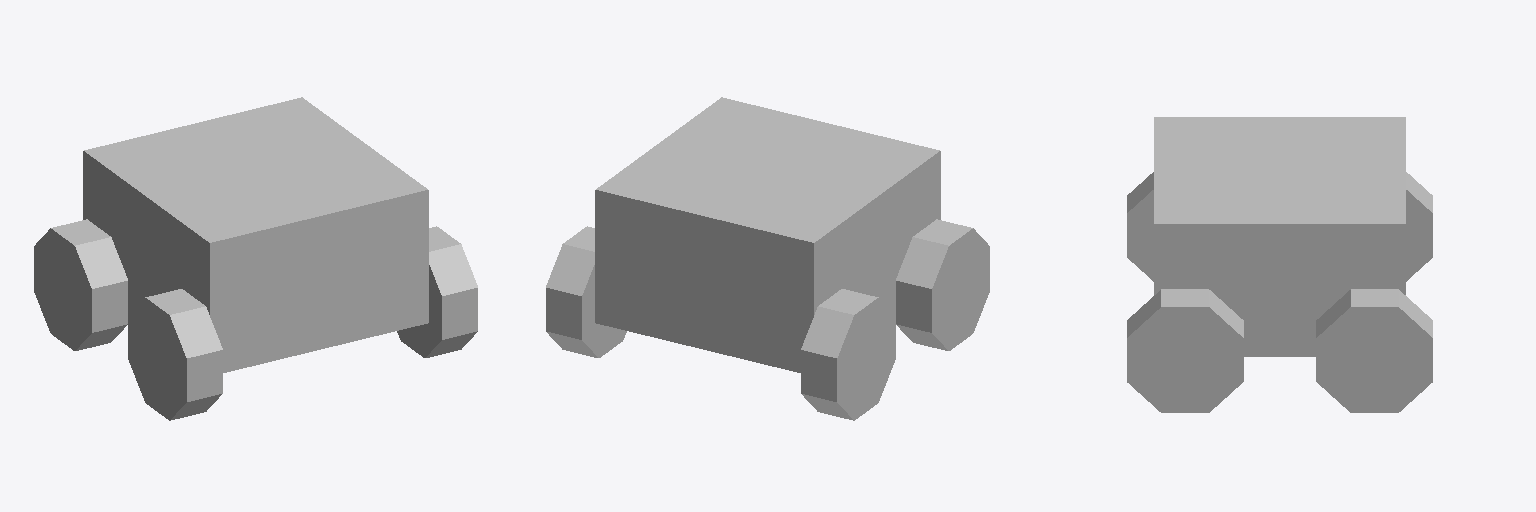
The model's file is bob.obj.
The picture shows the model from 3 angles: view 1: azimuth 30°, elevation 25°; view 2: azimuth 150°, elevation 25°; view 3: azimuth 270°, elevation 25°; orthographic projection.
Visible parts, largest first — view 1: RobotBase, Wheel_Front_Right, Wheel_Back_Right, Wheel_Front_Left; view 2: RobotBase, Wheel_Back_Right, Wheel_Front_Right, Wheel_Back_Left; view 3: RobotBase, Wheel_Back_Left, Wheel_Front_Left, Wheel_Front_Right, Wheel_Back_Right.
Boxes of the visible parts, x1=… form: RobotBase: x1=83, y1=97, x2=428, y2=372; Wheel_Front_Right: x1=128, y1=289, x2=222, y2=420; Wheel_Back_Right: x1=34, y1=219, x2=127, y2=350; Wheel_Front_Left: x1=397, y1=226, x2=477, y2=357; RobotBase: x1=595, y1=97, x2=940, y2=372; Wheel_Back_Right: x1=801, y1=289, x2=895, y2=420; Wheel_Front_Right: x1=896, y1=219, x2=989, y2=350; Wheel_Back_Left: x1=546, y1=226, x2=626, y2=357; RobotBase: x1=1154, y1=117, x2=1405, y2=356; Wheel_Back_Left: x1=1316, y1=289, x2=1432, y2=412; Wheel_Front_Left: x1=1127, y1=289, x2=1243, y2=412; Wheel_Front_Right: x1=1127, y1=172, x2=1153, y2=281; Wheel_Back_Right: x1=1406, y1=172, x2=1432, y2=281.
Size of the model in its own units: 1 by 0.5621 by 0.909.